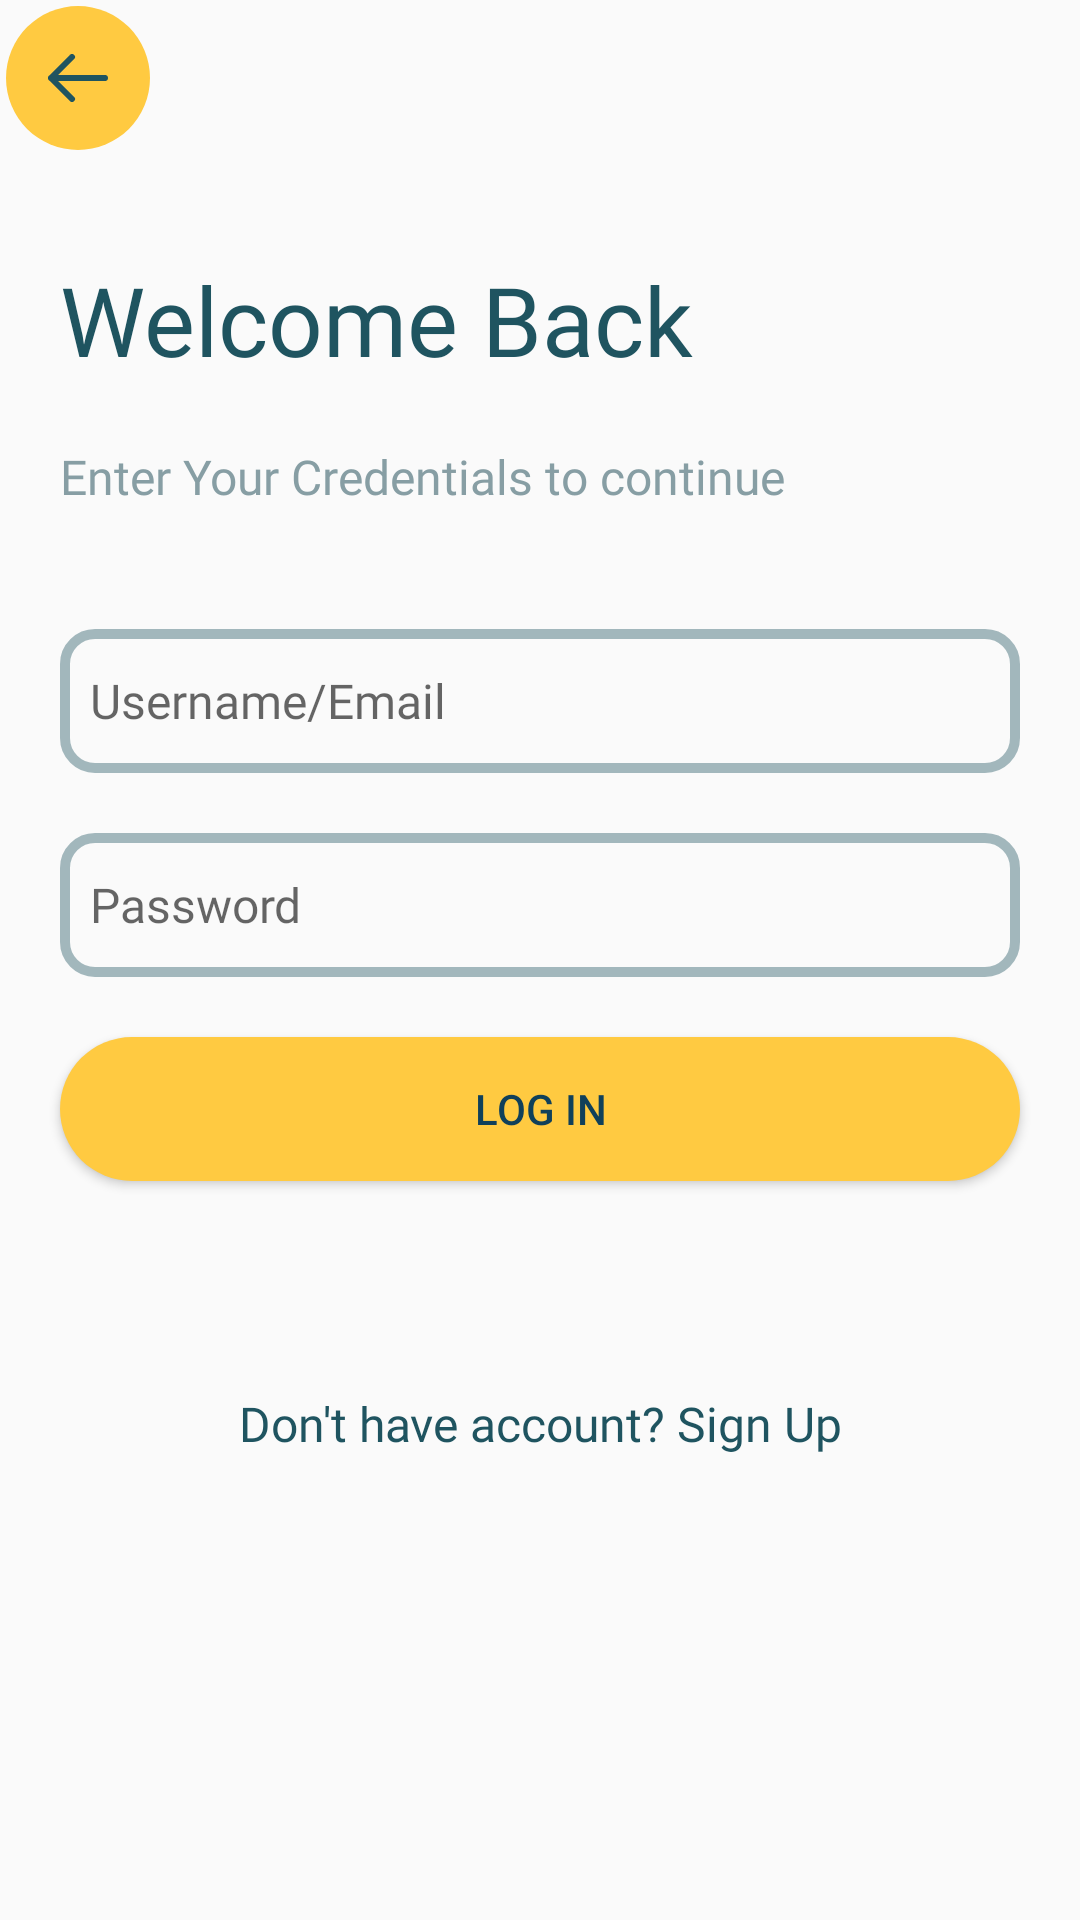

Screen size 1080w x 1920h. Icon name, then its center in pixels as (x=x, y=y):
Go Back: (x=78, y=78)
